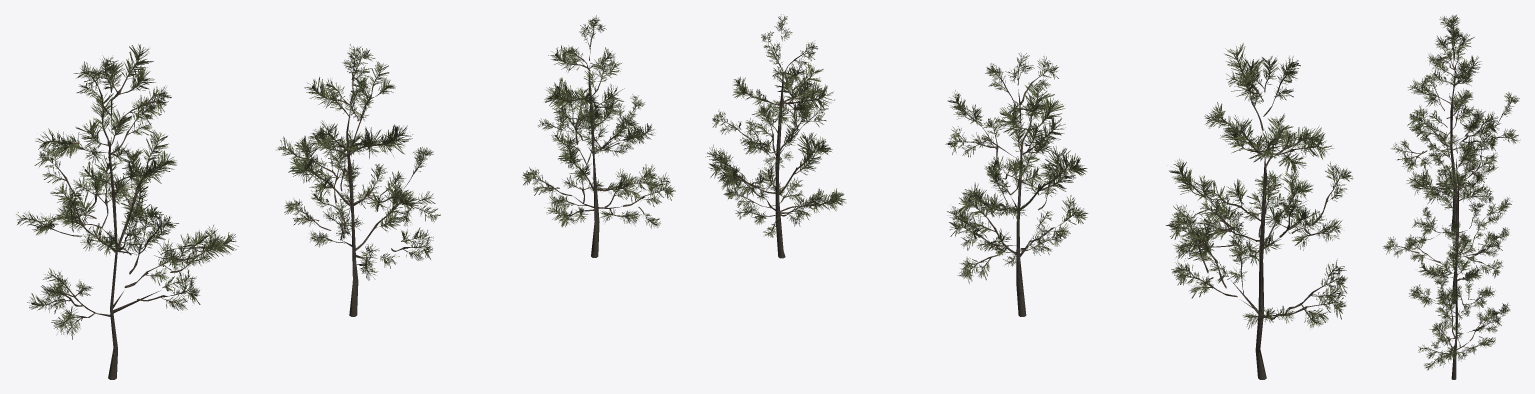
The model's file is pine_sapling_small.glb.
The picture shows the model from 3 angles, left to right: view 1: azimuth 30°, elevation 25°; view 2: azimuth 150°, elevation 25°; view 3: azimuth 270°, elevation 25°; orthographic projection. The views are drawn at different scales.
Parts seen in each view (by area): view 1: pine_sapling_small_a, pine_sapling_small_b, pine_sapling_small_c; view 2: pine_sapling_small_a, pine_sapling_small_b, pine_sapling_small_c; view 3: pine_sapling_small_a, pine_sapling_small_b, pine_sapling_small_c.
Boxes of the visible parts, x1,y1,x2,y2 form: pine_sapling_small_a: (16,44,238,379); pine_sapling_small_b: (276,44,440,316); pine_sapling_small_c: (522,15,675,257); pine_sapling_small_a: (1166,43,1353,379); pine_sapling_small_b: (945,52,1088,316); pine_sapling_small_c: (705,14,845,258); pine_sapling_small_a: (1390,15,1520,231); pine_sapling_small_b: (1383,134,1512,304); pine_sapling_small_c: (1409,224,1510,379).
Size of the model in its own units: 2.64 by 1.3 by 0.7703.
Materials: 2 (2 with a texture image).
